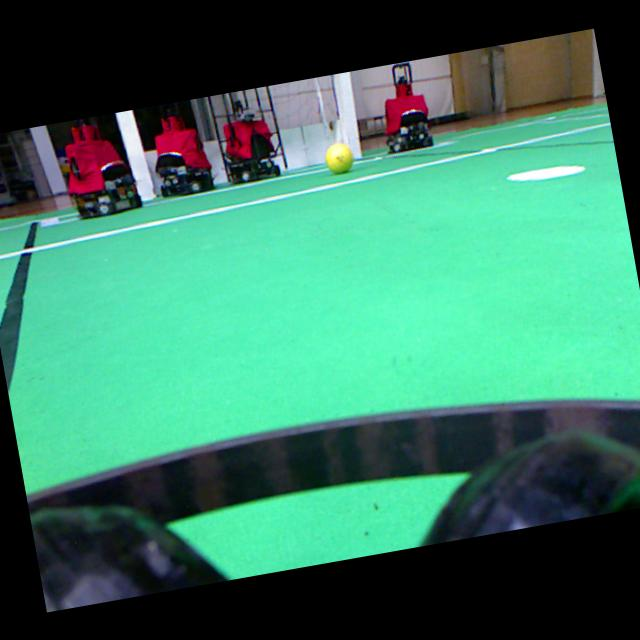ball: (325, 142, 352, 173)
goal: (115, 110, 154, 200), (332, 71, 361, 158)
